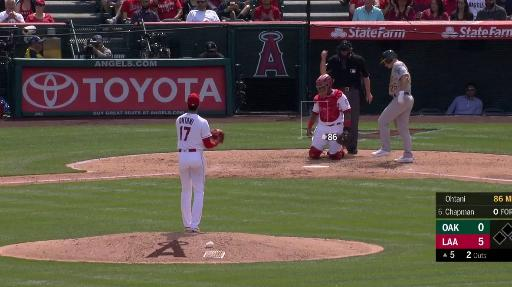pitcher: (177, 92, 226, 232)
